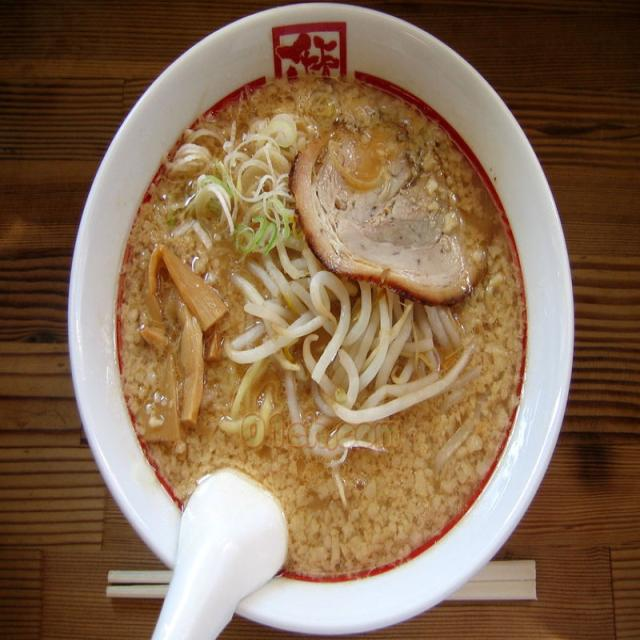面条主食: (40, 0, 422, 461)
